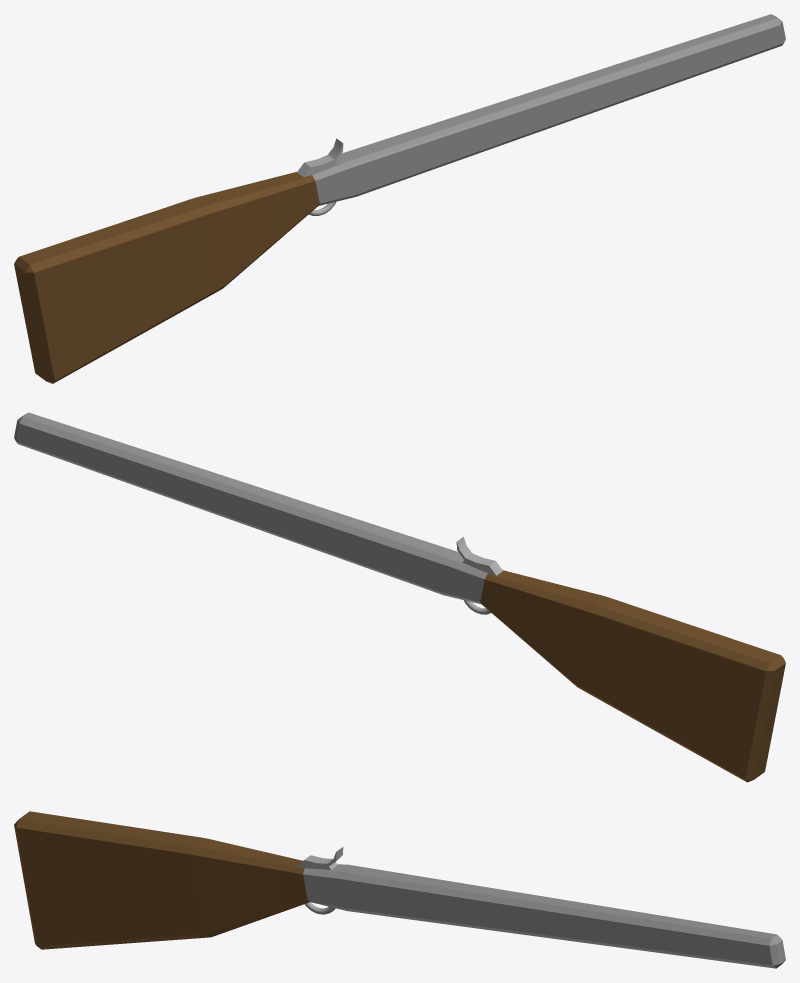
The model's file is Gun.fbx.
3 renders of one model, top to bottom at view 1: azimuth 30°, elevation 25°; view 2: azimuth 150°, elevation 25°; view 3: azimuth 330°, elevation 25°, orthographic.
Visible parts, largest first — view 1: Gun, Trigger; view 2: Gun, Trigger; view 3: Gun, Trigger.
Boxes of the visible parts, <box> form: Gun: <box>14,14,785,383</box>; Trigger: <box>297,138,343,177</box>; Gun: <box>14,412,785,782</box>; Trigger: <box>456,537,502,575</box>; Gun: <box>14,811,785,968</box>; Trigger: <box>297,847,343,869</box>.
Bounding box in the file's own units: 2.06 × 0.4808 × 0.0827.
